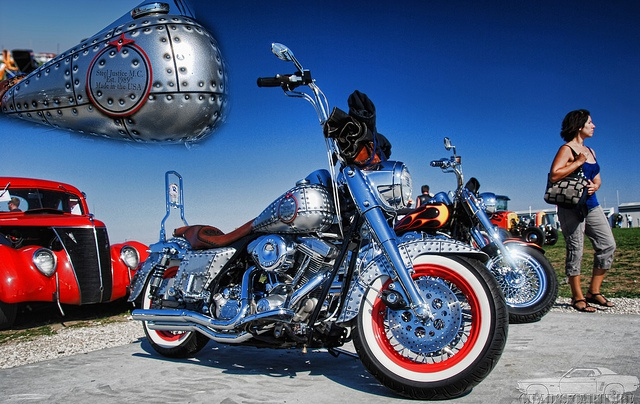non-vehicle: (125, 42, 508, 399), (395, 136, 557, 321)
